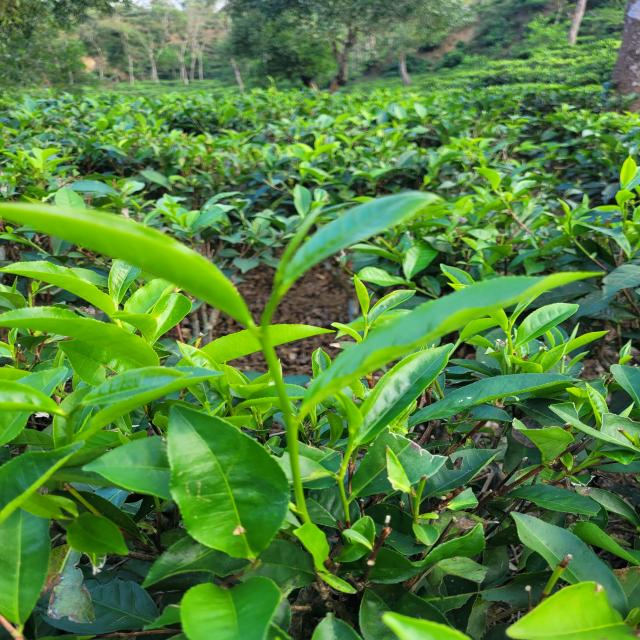Catagory A(1-2 days): (264, 168, 444, 303)
